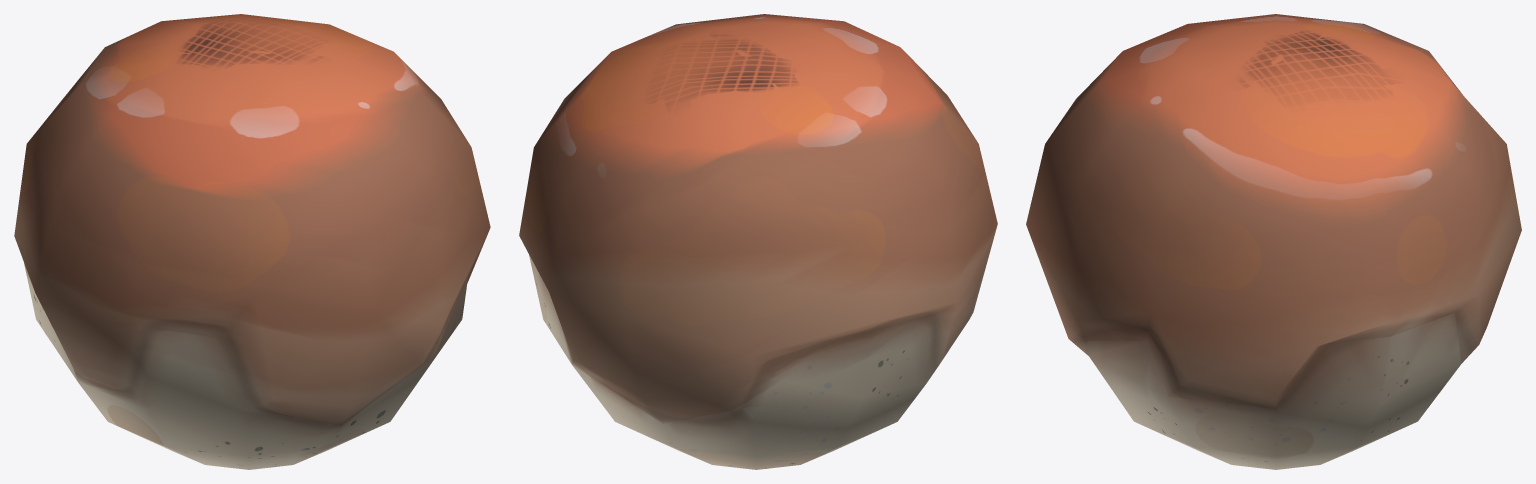
Rendered from Model_Mitarashi.fbx.
3 views of the same model, side by side, from view 1: azimuth 30°, elevation 25°; view 2: azimuth 150°, elevation 25°; view 3: azimuth 270°, elevation 25° (orthographic).
Parts seen in each view (by area): view 1: pSphere1; view 2: pSphere1; view 3: pSphere1.
Boxes of the visible parts, x1,y1,x2,y2 form: pSphere1: (14, 14, 490, 469); pSphere1: (519, 14, 997, 469); pSphere1: (1026, 14, 1521, 469).
Bounding box in the file's own units: 2.07 × 1.88 × 2.14.
1 material, 1 textured.
